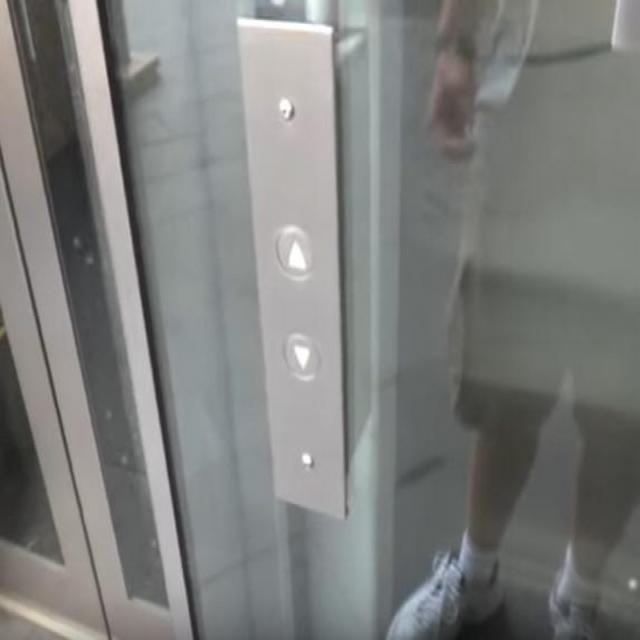down: (281, 331, 321, 380)
up: (272, 221, 318, 280)
